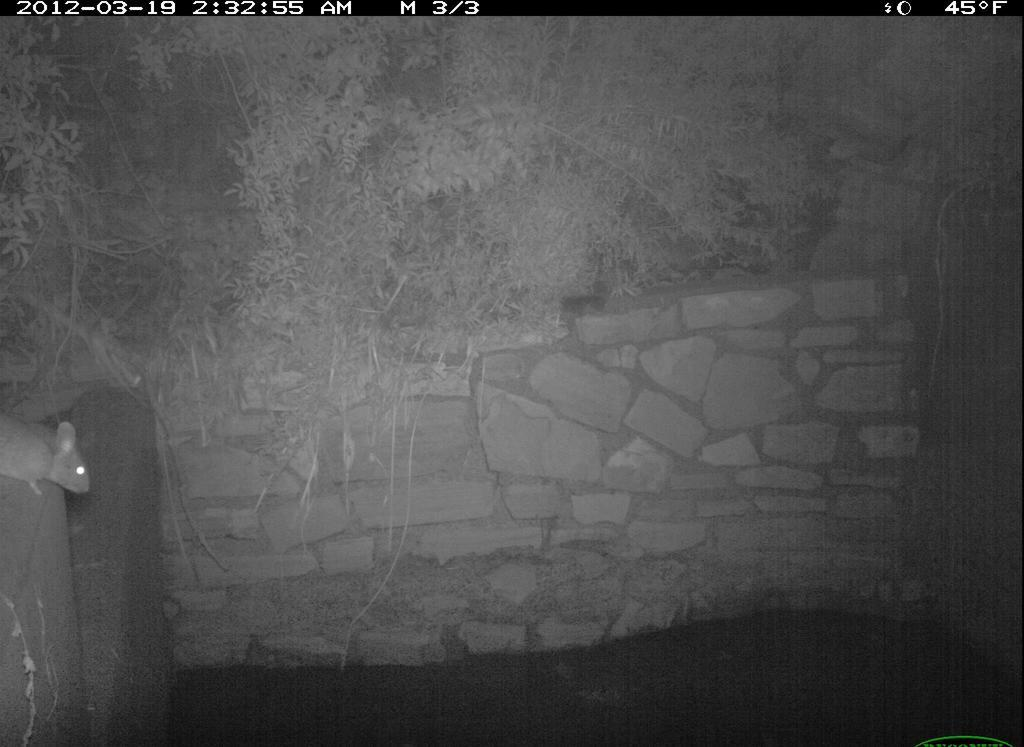rodent: (3, 392, 109, 525)
